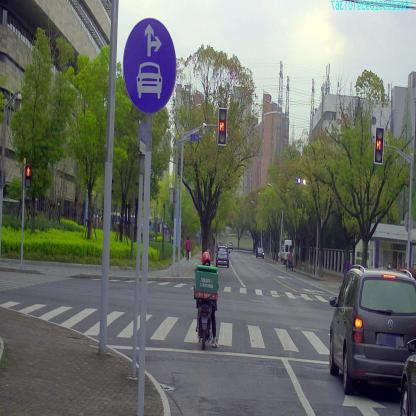traffic-light: (375, 127, 384, 164), (218, 108, 227, 144)
